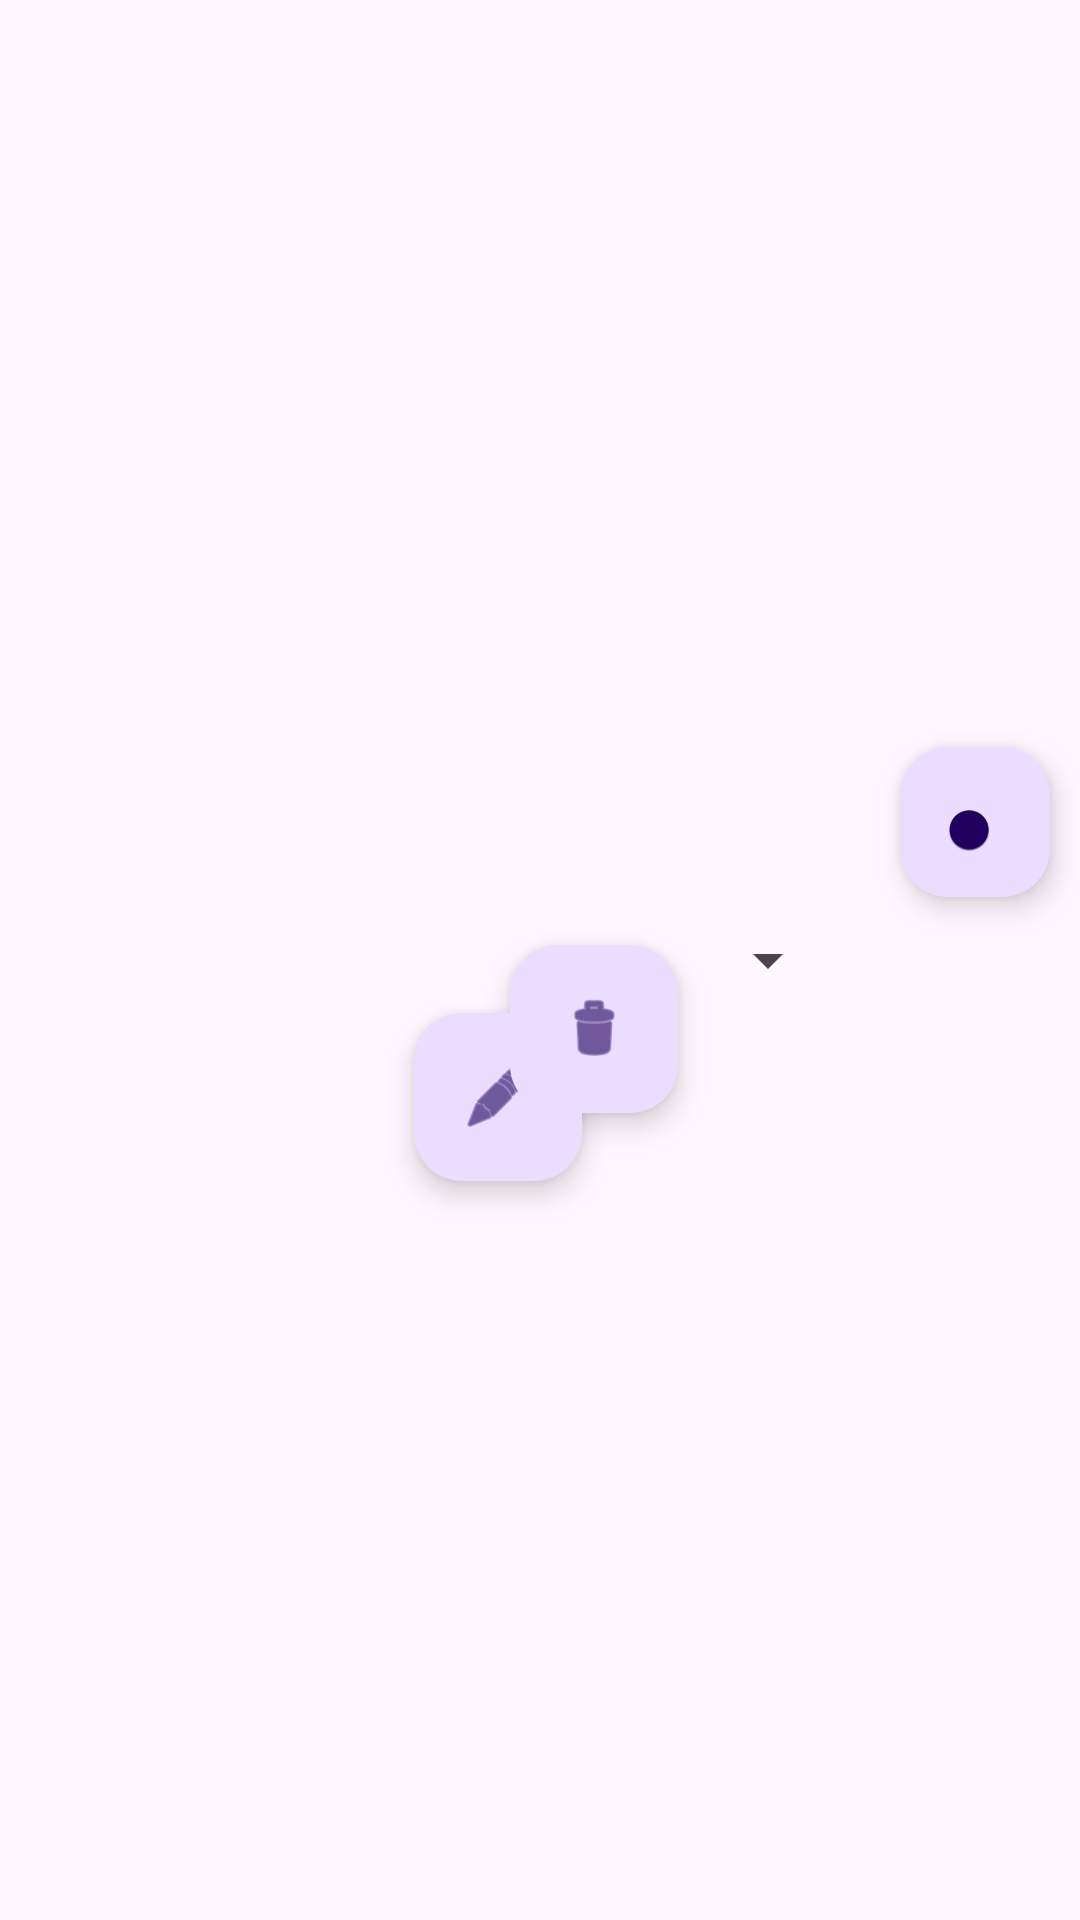

Icons on this 1080*1920 Android screen, each with the point to tap as [x,y]:
delete: [594,1029]
edit: [492,1098]
